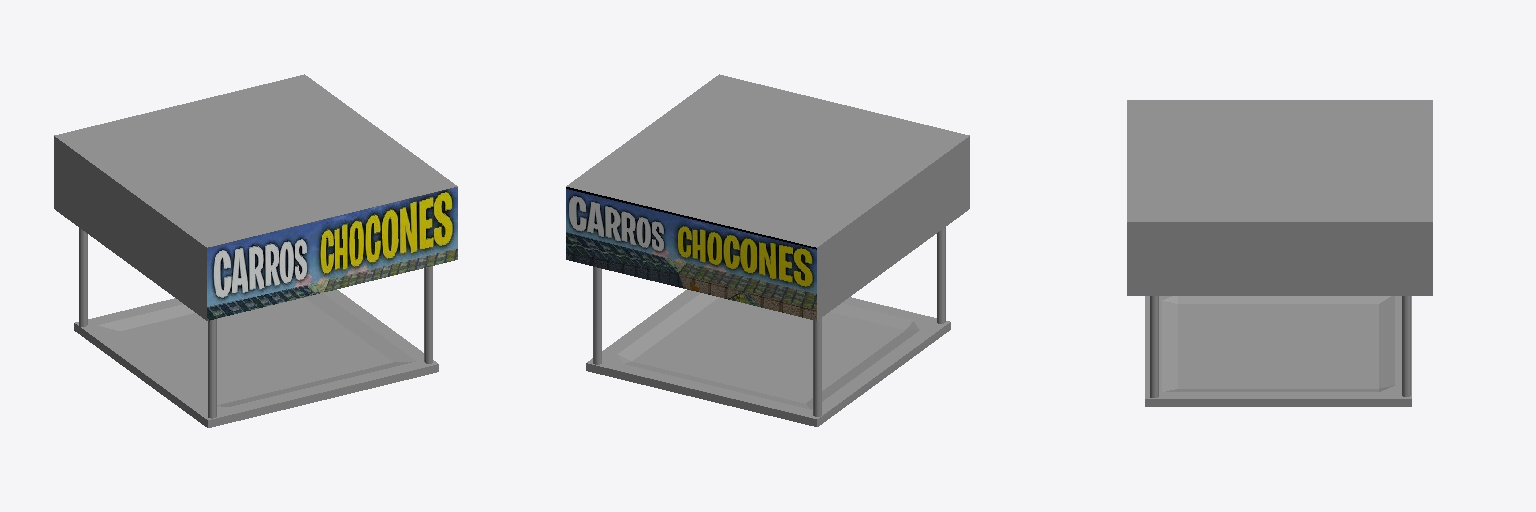
3 renders of one model, left to right at view 1: azimuth 30°, elevation 25°; view 2: azimuth 150°, elevation 25°; view 3: azimuth 270°, elevation 25°, orthographic.
Parts seen in each view (by area): view 1: Tent; view 2: Tent; view 3: Tent.
Part boxes in pixels (bbox=[...]): Tent: bbox=[54, 74, 457, 427]; Tent: bbox=[566, 74, 969, 426]; Tent: bbox=[1127, 100, 1432, 406].
Bounding box in the file's own units: 92.35 × 66.69 × 97.6.
Materials: 4 (1 with a texture image).